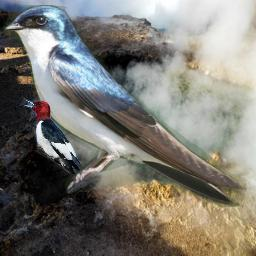Swallow: (3, 5, 247, 207)
Woodpecker: (20, 97, 83, 174)
